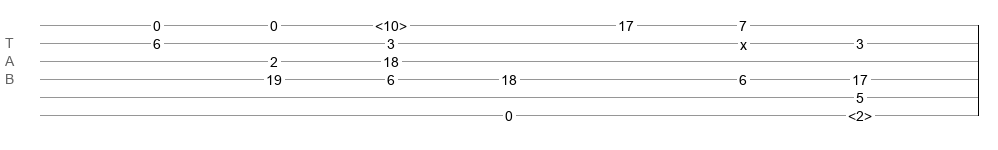0: (153, 18, 161, 28), (270, 18, 278, 28), (505, 108, 513, 118)
17: (618, 18, 634, 28), (852, 72, 868, 82)
18: (383, 54, 399, 64), (501, 72, 517, 82)
19: (266, 72, 282, 82)
2: (270, 54, 278, 64)
3: (387, 36, 395, 46), (856, 36, 864, 46)
5: (856, 90, 864, 100)
6: (153, 36, 161, 46), (387, 72, 395, 82), (739, 72, 747, 82)
7: (739, 18, 747, 28)
harmonic: (375, 18, 407, 28), (848, 108, 872, 118)
x: (740, 37, 747, 45)
